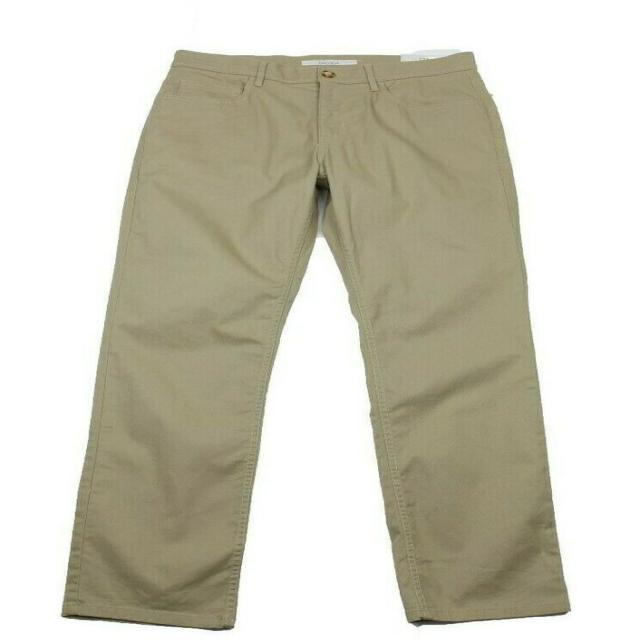long-pants: (55, 49, 578, 632)
